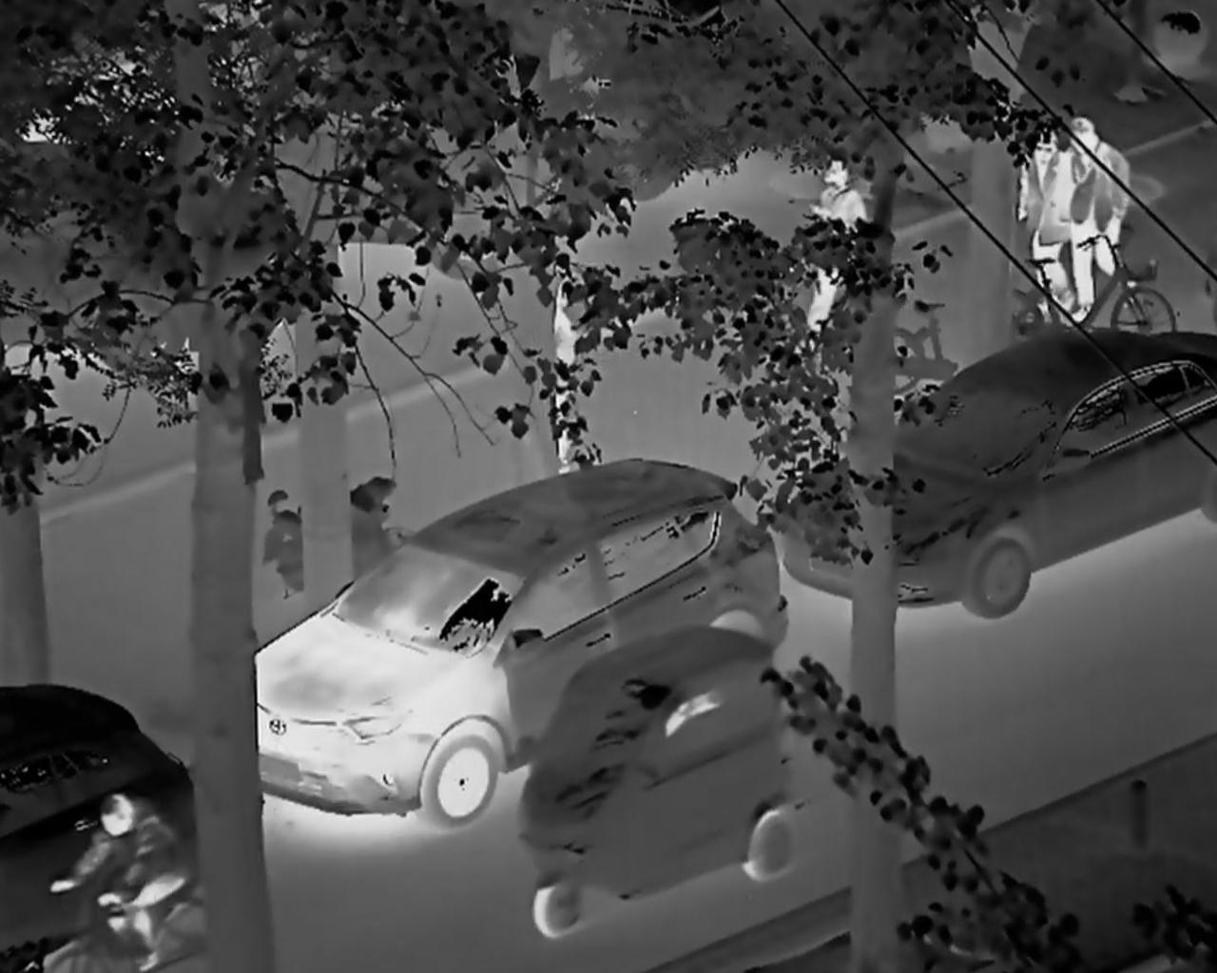person: (48, 773, 198, 973), (1050, 110, 1130, 325), (802, 160, 866, 339), (547, 261, 595, 470), (1023, 113, 1071, 319)
